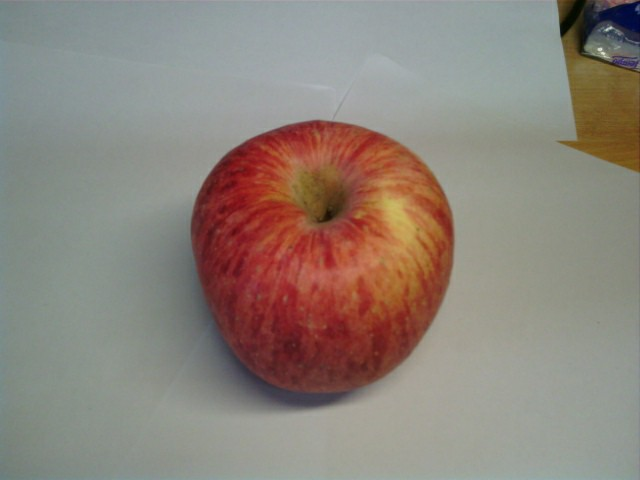normal_apple: (191, 119, 455, 396)
